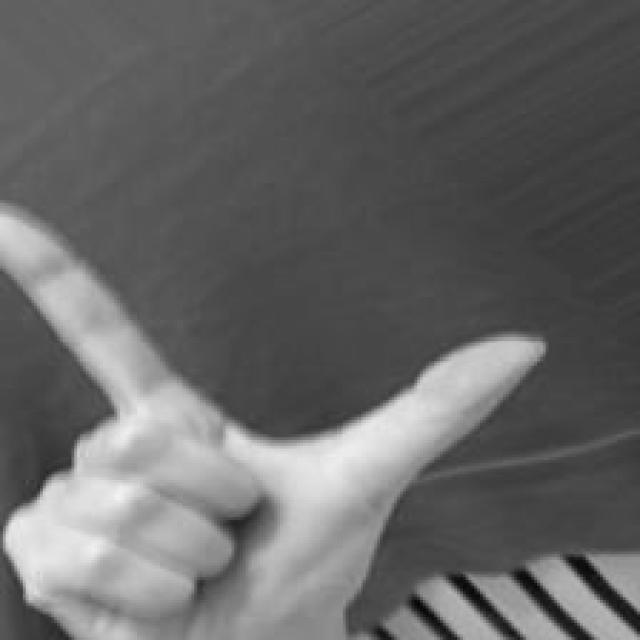L: (2, 201, 560, 640)
